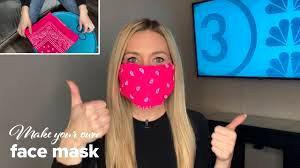mask: (116, 26, 180, 112)
